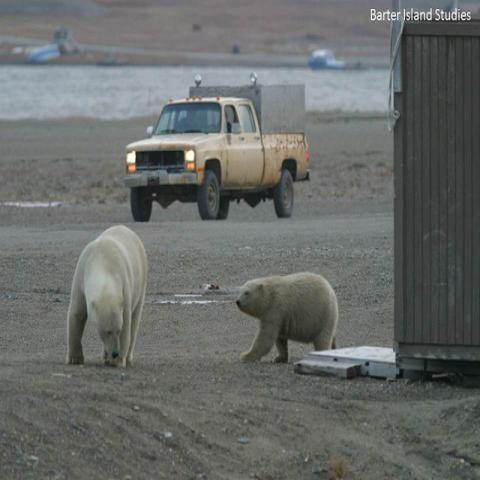car: (123, 94, 311, 223), (308, 44, 347, 70)
truck: (126, 72, 312, 222)
